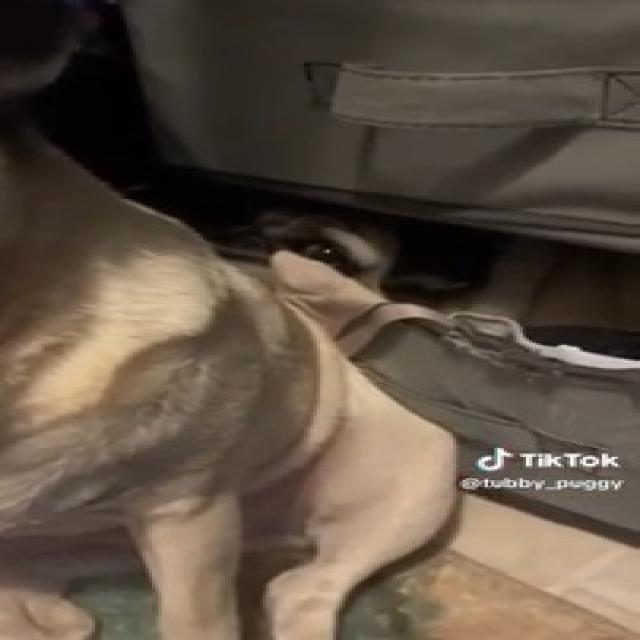dogs: (0, 12, 456, 640)
